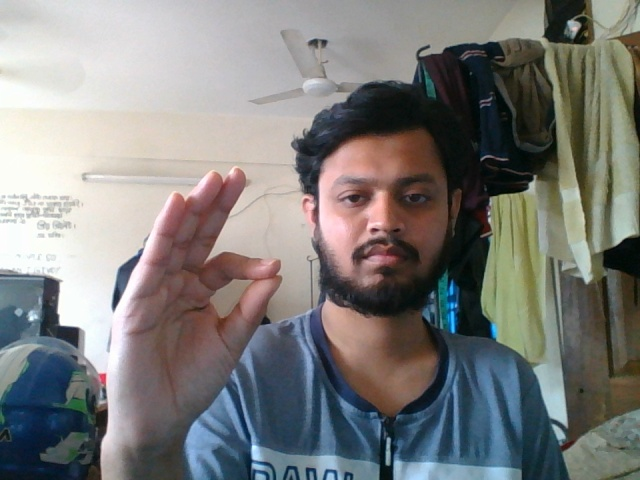ieo: (104, 156, 292, 456)
